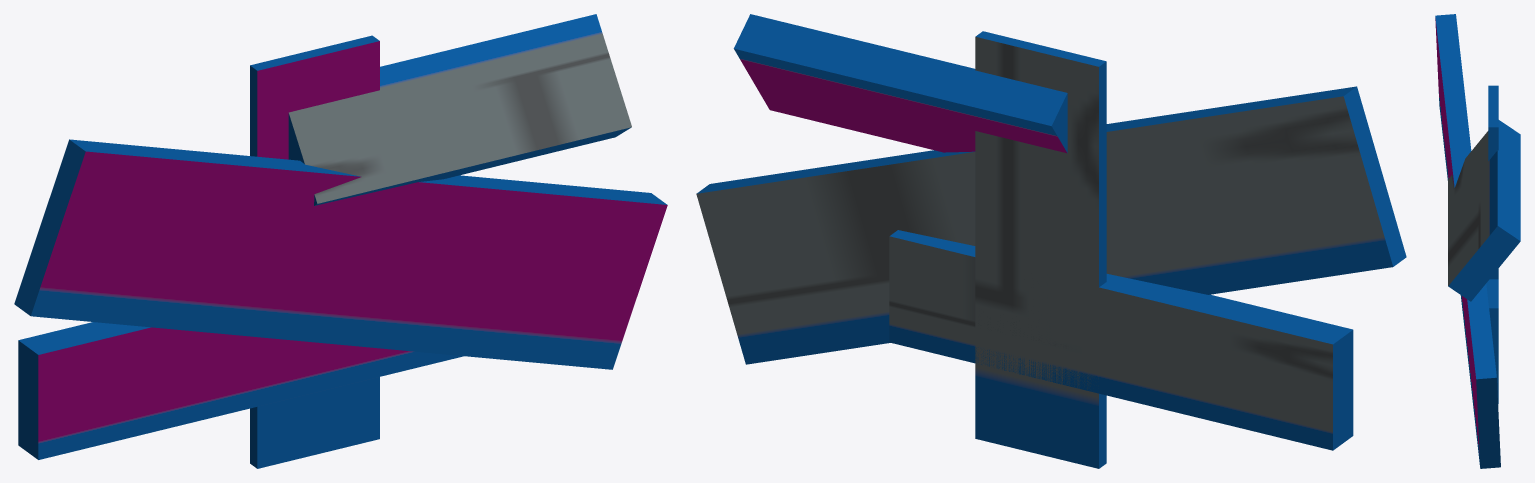
The model's file is ObjectMetalScraps.obj.
3 renders of one model, left to right at view 1: azimuth 30°, elevation 25°; view 2: azimuth 150°, elevation 25°; view 3: azimuth 270°, elevation 25°, orthographic. The views are drawn at different scales.
Visible parts, largest first — view 1: Cube, Cube.002, Cube.001, Cube.003; view 2: Cube, Cube.003, Cube.001, Cube.002; view 3: Cube.002, Cube, Cube.003, Cube.001.
Part boxes in pixels (x1,y1,x2,y2): Cube: (14,139,667,369); Cube.002: (288,14,631,205); Cube.001: (18,322,463,459); Cube.003: (250,35,379,468); Cube: (696,86,1406,364); Cube.003: (975,31,1106,468); Cube.001: (889,230,1353,450); Cube.002: (733,14,1067,153); Cube.002: (1448,120,1520,301); Cube: (1435,14,1500,468); Cube.003: (1488,85,1498,404); Cube.001: (1486,279,1498,381).
Bounding box in the file's own units: 7.35 × 4.2 × 1.18.
